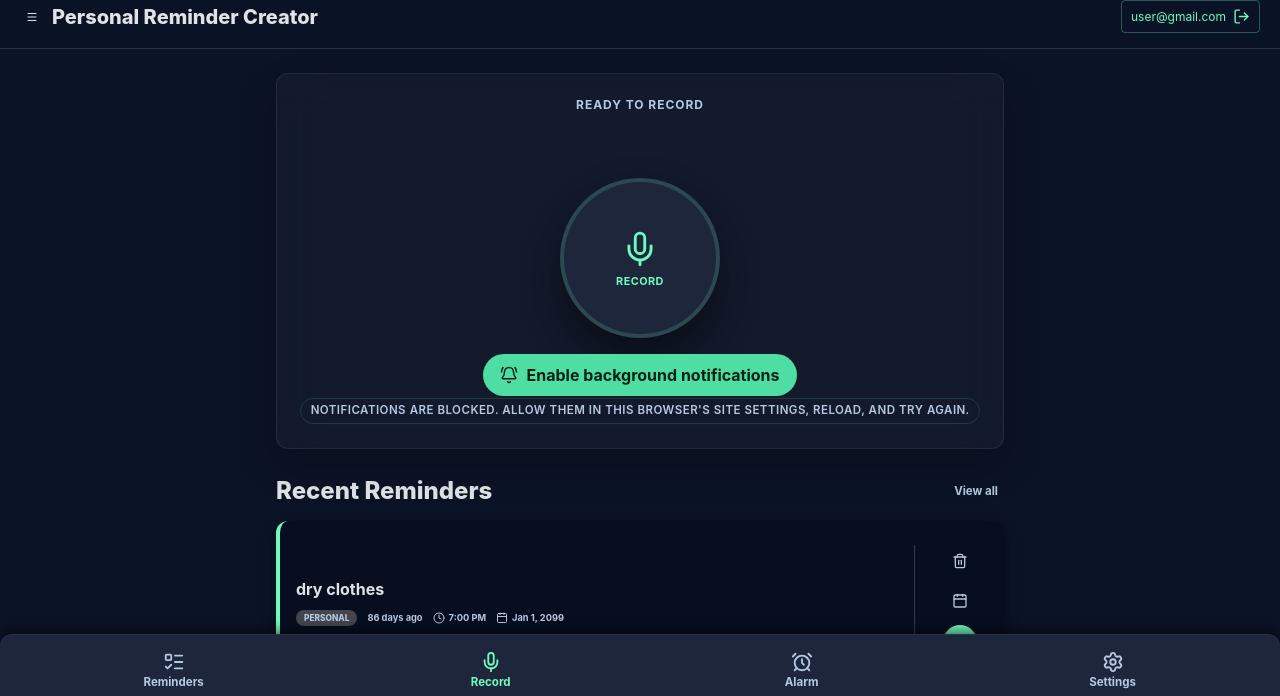
Test: App › updates the alarm view after a reminder is rescheduled
Expected: the text "dry clothes" is shown, [296,578,384,598]
Step 1. Click the button named "reschedule dry clothes" → point(960, 601), box [944,585,976,617]
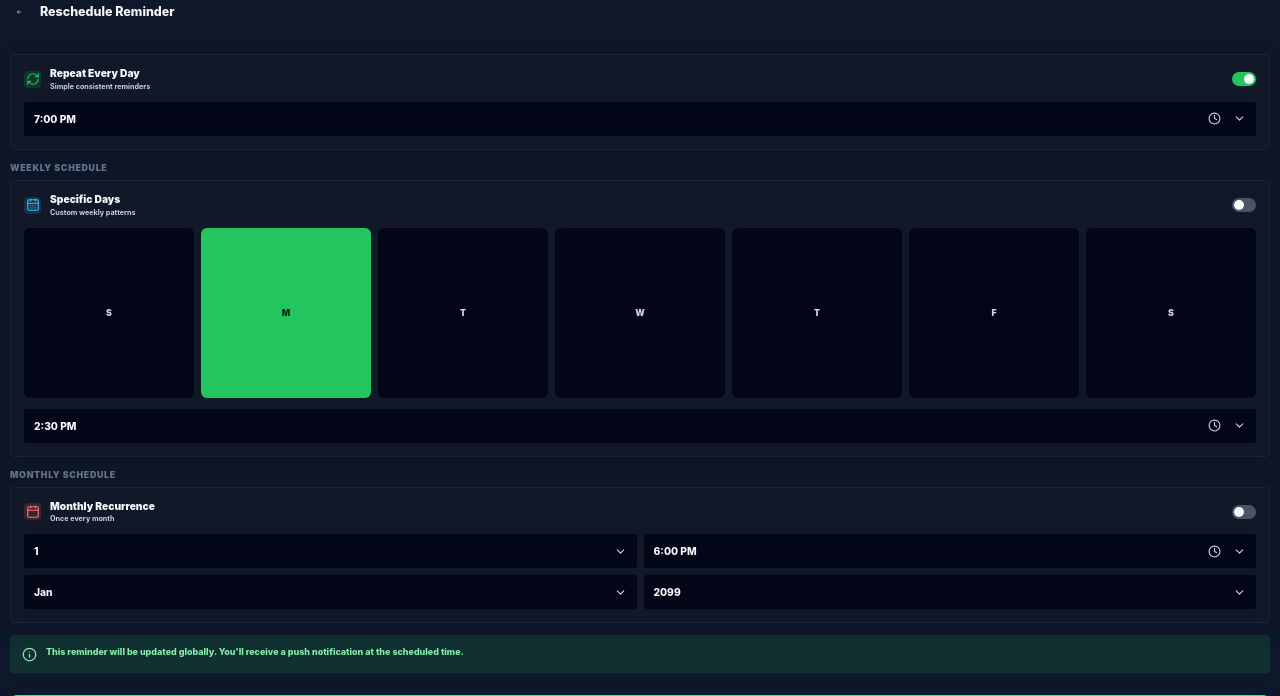
Step 2. Select "10:30 AM" in the dropdown named "daily time" → point(640, 119), box [24,102,1256,136]
(page scrolled)
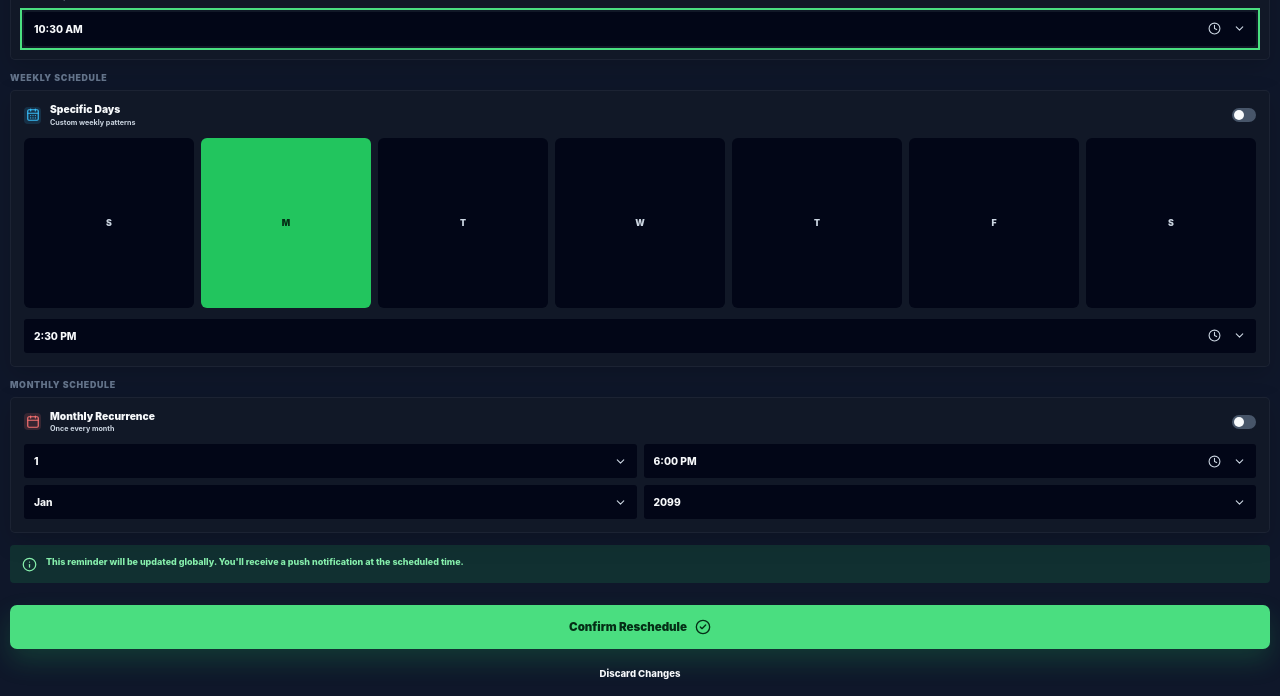
Step 3. Click the button "Confirm Reschedule" → point(640, 627), box [10,605,1270,649]
(page scrolled)
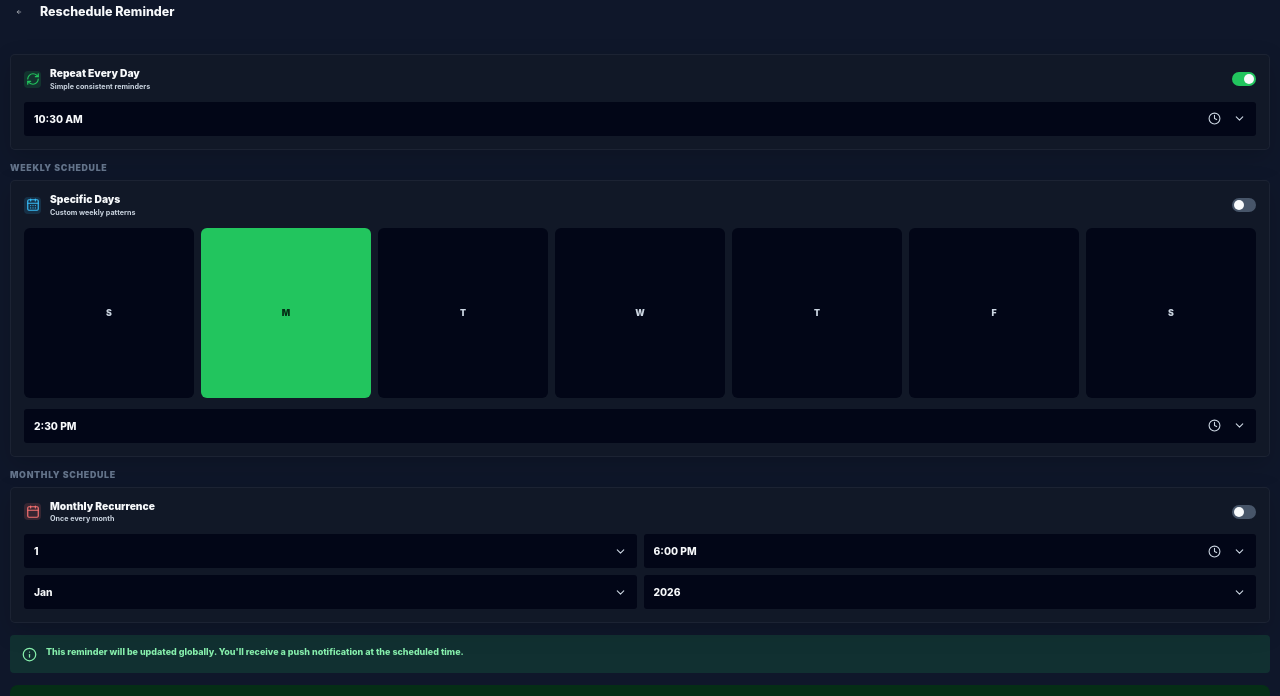
Step 4. Click the button named "back" → point(19, 12), box [10,3,28,21]
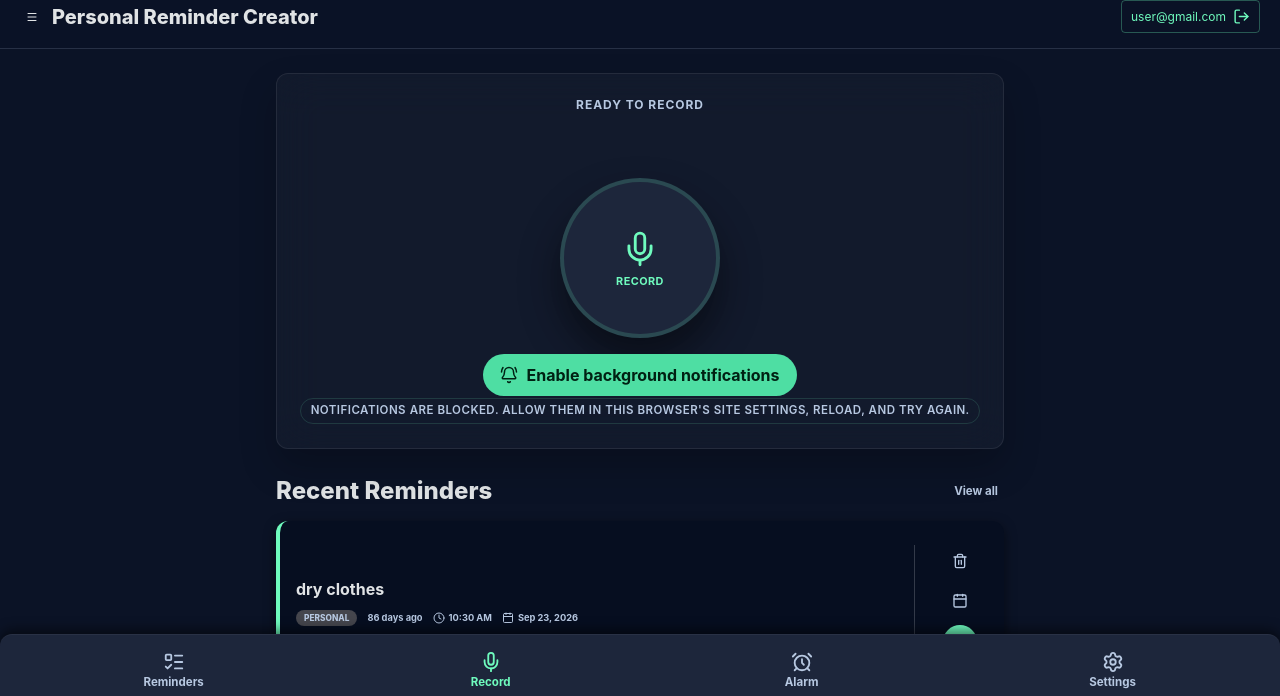
Step 5. Click the link "Alarm" → point(802, 670), box [785,651,818,689]
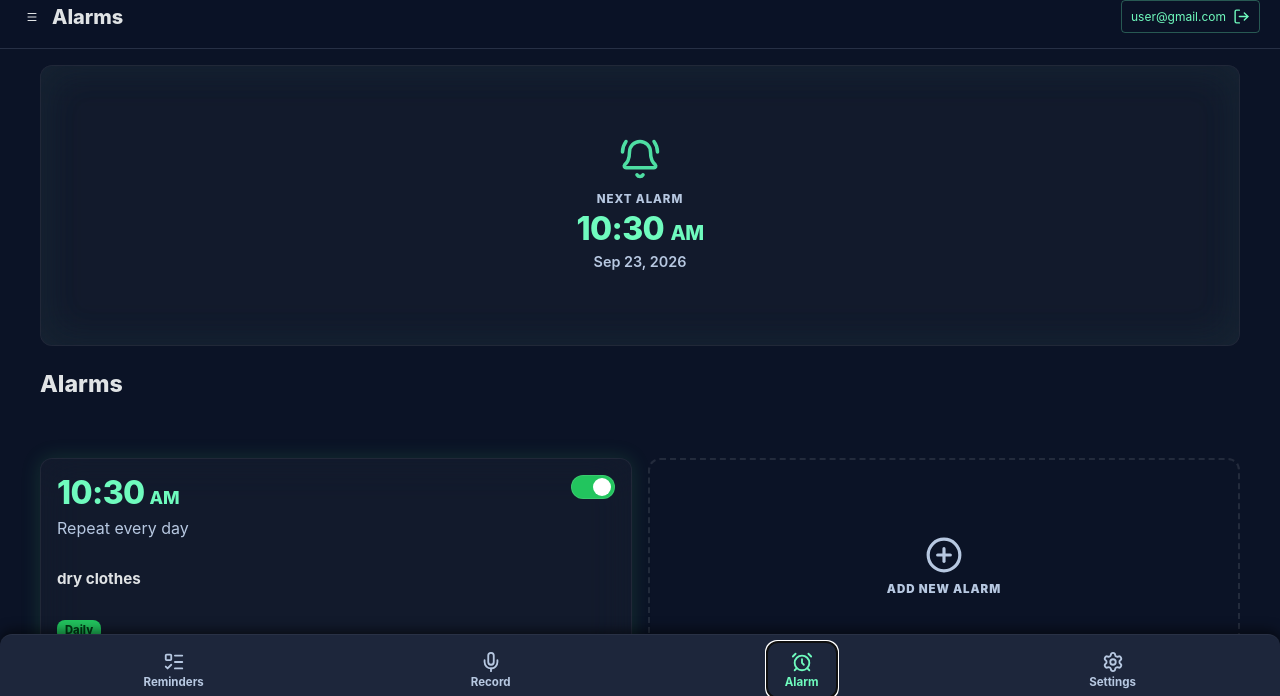
Now the button with aria-label "open settings for dry clothes" is shown, box [40,458,632,673]
Now the heading "10:30 AM" is shown, box [577,210,704,248]
Now the text "Repeat every day" is shown, box [57,516,189,540]
